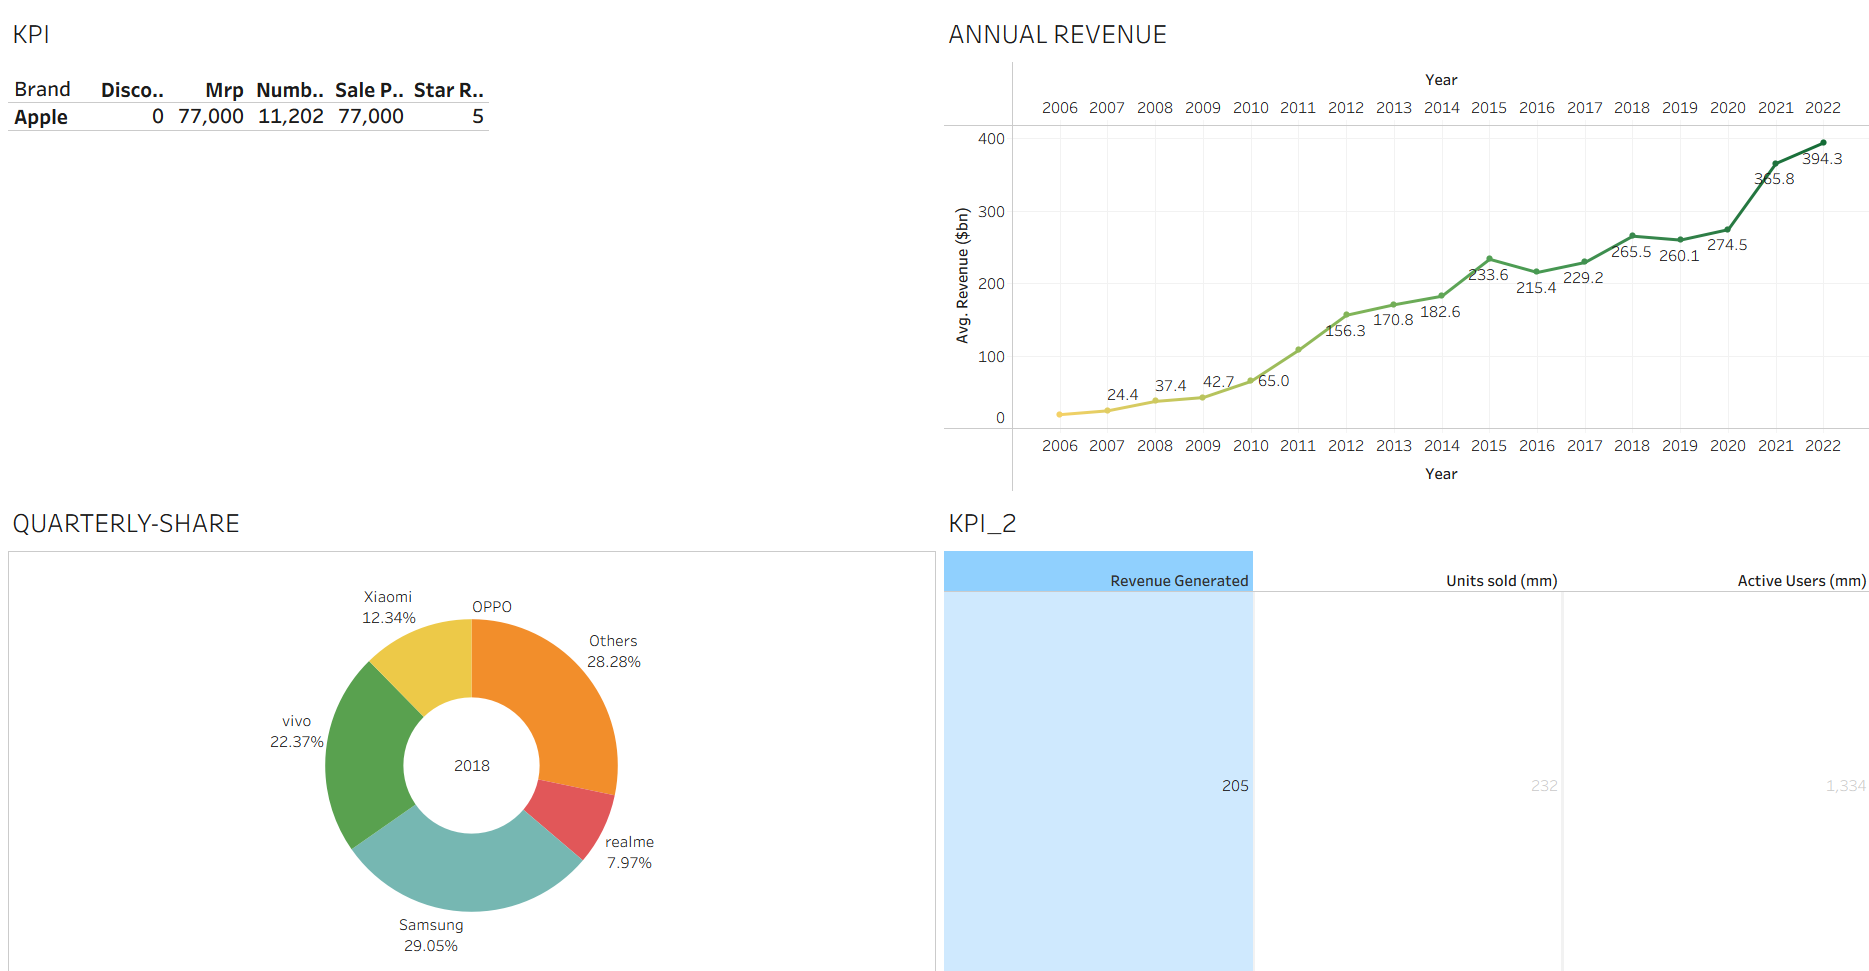

The dashboard page shown, as its layout file describes it:
{"tool":"tableau","page":{"name":"Dashboard 1","canvas":[1000,1000],"units":"permille","ordinal":0},"visuals":[{"type":"worksheet","title":"KPI","mark":"Automatic","rows":["Brand"],"box":[4.8,10,485.6,490]},{"type":"worksheet","title":"ANNUAL REVENUE","mark":"Automatic","rows":["Revenue ($bn)"],"cols":["Year","Year"],"box":[490.4,10,485.6,490]},{"type":"filter","title":"KPI","param":"[federated.1mumh9v00jfx3n11ym3q9100i7nt].[none:Upc:nk]","box":[976.1,10,19.2,83.7]},{"type":"blank","box":[976.1,93.6,19.2,534.3]},{"type":"worksheet","title":"QUARTERLY-SHARE","mark":"Pie","rows":["Calculation_690739618673795074","Calculation_690739618673795074"],"box":[4.8,500,485.6,490]},{"type":"worksheet","title":"KPI_2","mark":"Automatic","box":[490.4,500,485.6,490]},{"type":"filter","title":"QUARTERLY-SHARE","param":"[federated.01x4rku0j3cyvr19311pq0cf2kgw].[none:Year:ok]","box":[976.1,628,19.2,76.2]},{"type":"legend","title":"QUARTERLY-SHARE","param":"[federated.01x4rku0j3cyvr19311pq0cf2kgw].[none:Brand:nk]","box":[976.1,704.1,19.2,194.8]},{"type":"legend","title":"ANNUAL REVENUE","param":"[federated.12wmu1e0qu6pv514hzlm41edggs5].[none:Year:qk]","box":[976.1,898.9,19.2,91.1]}]}

Visuals, with their boxes on the dashboard's canvas, which has no fixed pixel size, in thousandths of its width and height (x1, y1, x2, y2). These are canvas units, not pixel positions in the 1869x971 screenshot, which may show the page scaled, cropped or inside an application window:
"KPI" worksheet: x1=5 y1=10 x2=490 y2=500
"ANNUAL REVENUE" worksheet: x1=490 y1=10 x2=976 y2=500
"KPI" filter: x1=976 y1=10 x2=995 y2=94
blank: x1=976 y1=94 x2=995 y2=628
"QUARTERLY-SHARE" worksheet (Pie marks): x1=5 y1=500 x2=490 y2=990
"KPI_2" worksheet: x1=490 y1=500 x2=976 y2=990
"QUARTERLY-SHARE" filter: x1=976 y1=628 x2=995 y2=704
"QUARTERLY-SHARE" legend: x1=976 y1=704 x2=995 y2=899
"ANNUAL REVENUE" legend: x1=976 y1=899 x2=995 y2=990
